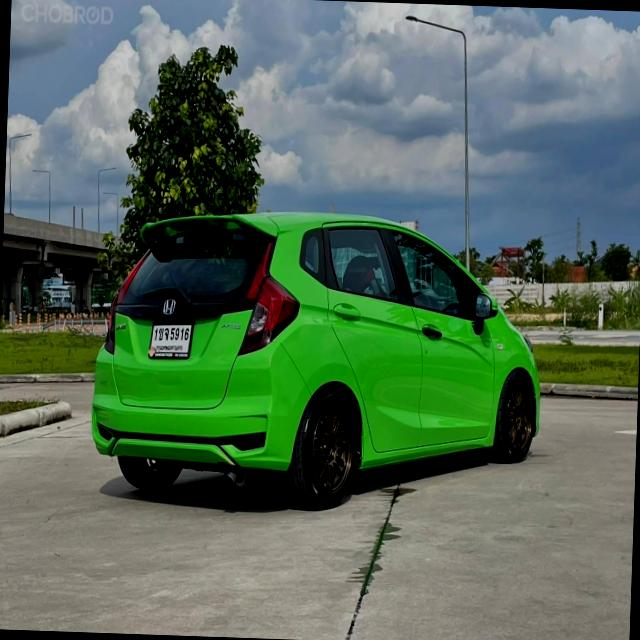license_plate: (144, 314, 193, 366)
